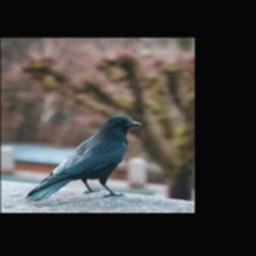Crow: (23, 114, 142, 201)
